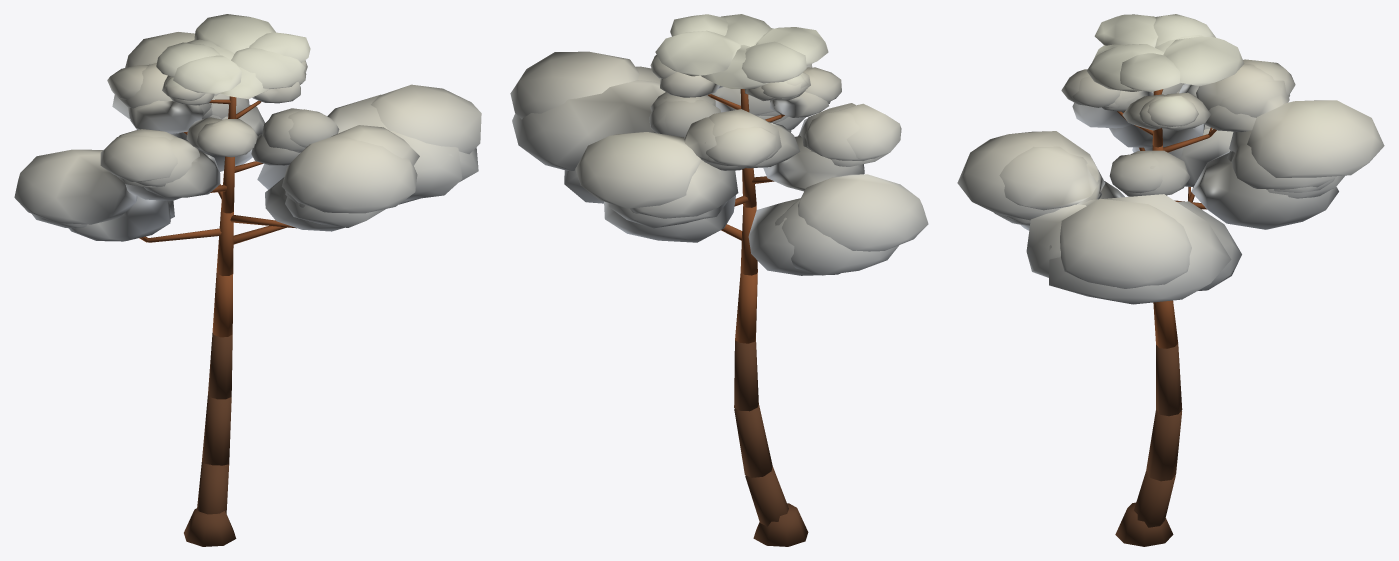
The picture shows the model from 3 angles, left to right: view 1: azimuth 30°, elevation 25°; view 2: azimuth 150°, elevation 25°; view 3: azimuth 270°, elevation 25°; orthographic projection. The views are drawn at different scales.
Visible parts, largest first — view 1: crown, trunk.001, trunk2; view 2: crown, trunk.001, trunk2; view 3: crown, trunk.001, trunk2.
Boxes of the visible parts, x1,y1,x2,y2 form: crown: (14, 14, 481, 241); trunk.001: (184, 332, 236, 546); trunk2: (139, 96, 296, 337); crown: (510, 14, 928, 275); trunk.001: (734, 339, 808, 546); trunk2: (708, 89, 784, 343); crown: (957, 14, 1384, 304); trunk.001: (1115, 344, 1182, 546); trunk2: (1117, 89, 1216, 348).
Size of the model in its own units: 16.73 by 18.76 by 13.93.
